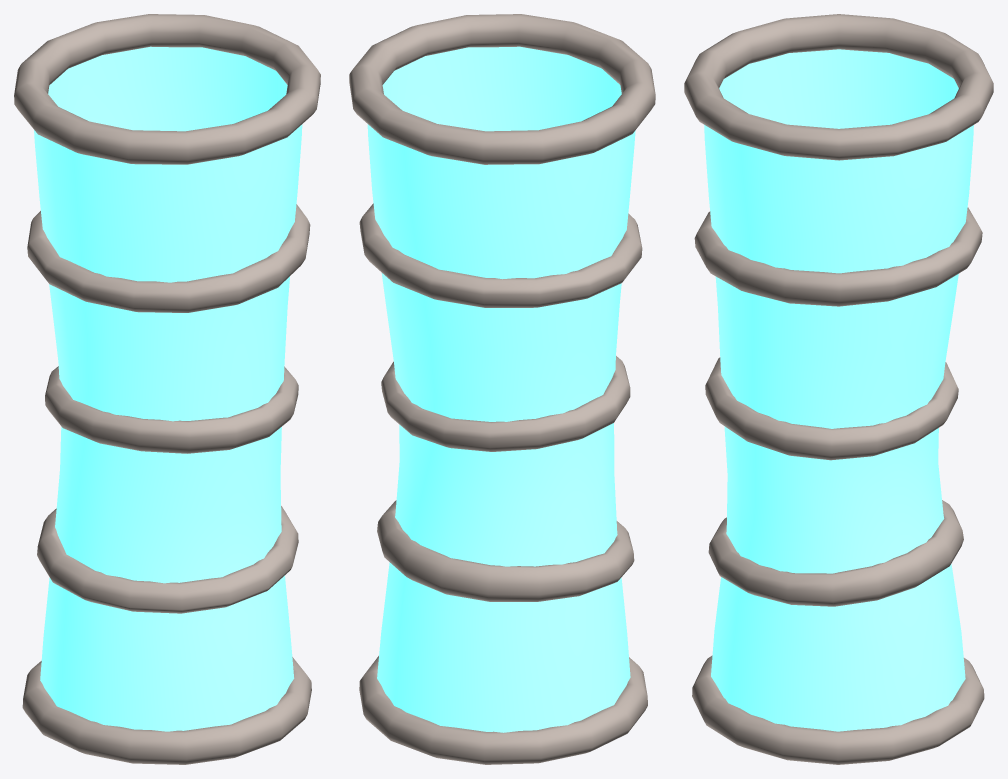
File: SM_Lift_03.fbx
3 views of the same model, side by side, from view 1: azimuth 30°, elevation 25°; view 2: azimuth 150°, elevation 25°; view 3: azimuth 270°, elevation 25° (orthographic).
Visible parts, largest first — view 1: SM_Lift_03; view 2: SM_Lift_03; view 3: SM_Lift_03.
Part boxes in pixels (bbox=[...]): SM_Lift_03: bbox=[14, 14, 320, 764]; SM_Lift_03: bbox=[349, 14, 655, 764]; SM_Lift_03: bbox=[684, 14, 993, 764].
Size of the model in its own units: 1100 by 2500 by 1100.
